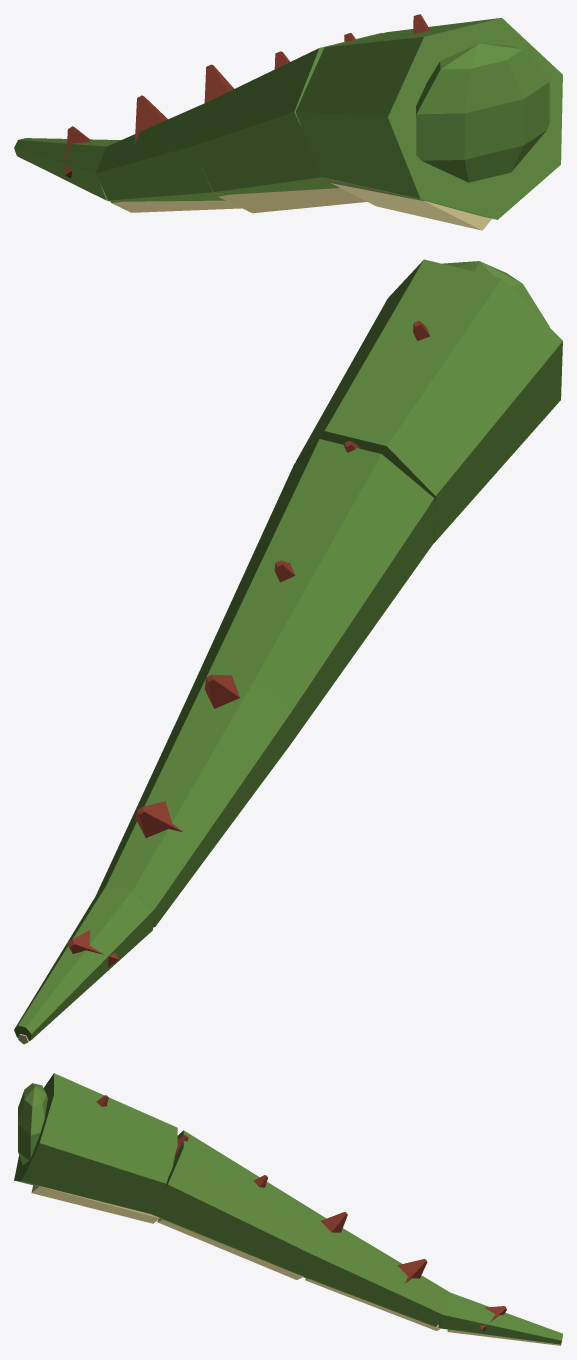
Rendered from lizard_tail.glb.
3 views of the same model, one above another, from view 1: azimuth 30°, elevation 25°; view 2: azimuth 150°, elevation 25°; view 3: azimuth 270°, elevation 25° (orthographic). The views are drawn at different scales.
Visible parts, largest first — view 1: lizard_tail; view 2: lizard_tail; view 3: lizard_tail.
Boxes of the visible parts, x1,y1,x2,y2 form: lizard_tail: [14, 14, 562, 230]; lizard_tail: [14, 259, 562, 1044]; lizard_tail: [14, 1073, 562, 1345].
Bounding box in the file's own units: 0.2925 × 0.7243 × 1.38.
